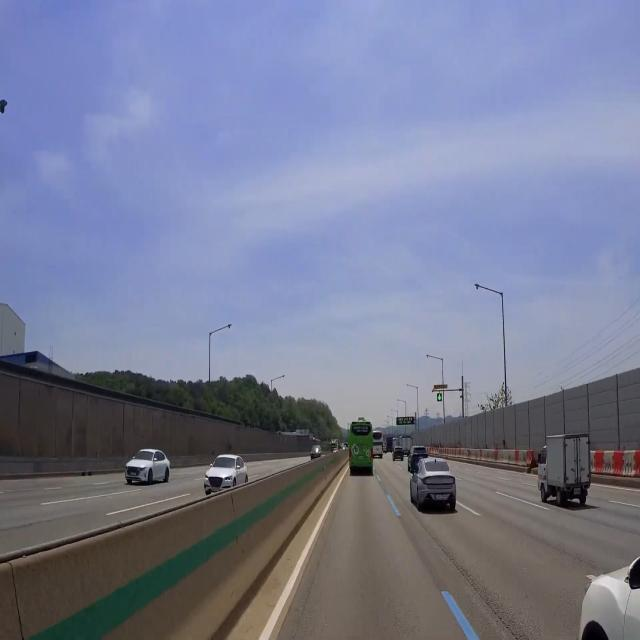car: (571, 486, 586, 502), (433, 491, 451, 504), (208, 483, 222, 497), (128, 468, 139, 482), (355, 451, 366, 464)
